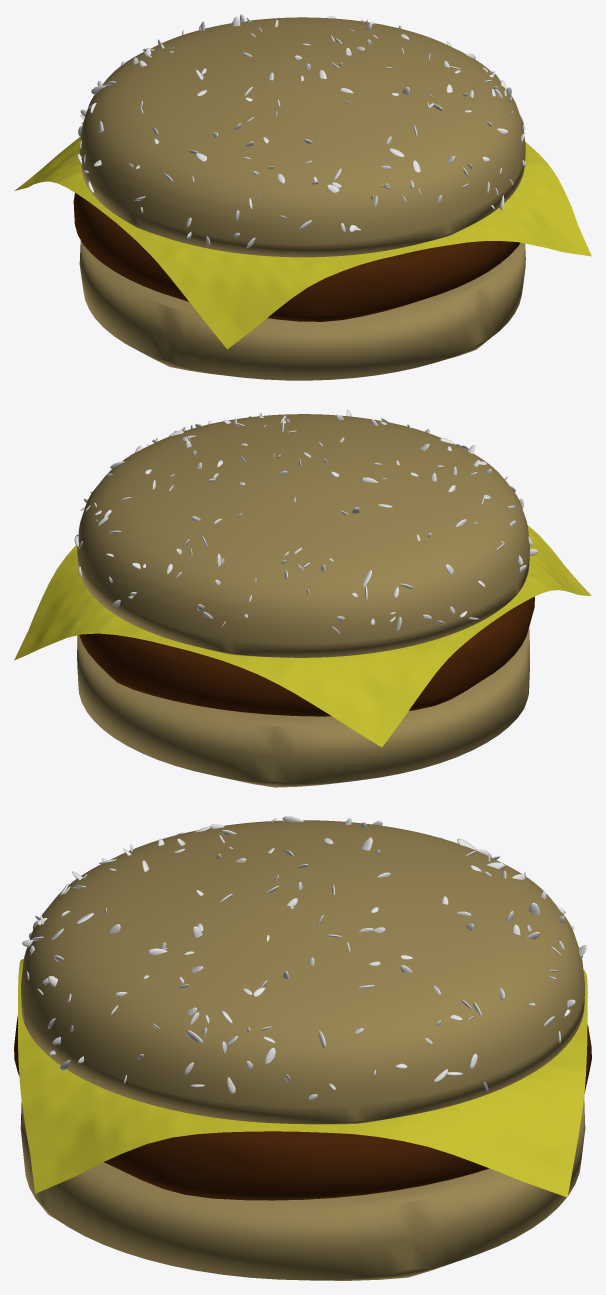
The model's file is Burger.fbx.
3 renders of one model, top to bottom at view 1: azimuth 30°, elevation 25°; view 2: azimuth 150°, elevation 25°; view 3: azimuth 270°, elevation 25°, orthographic. The views are drawn at different scales.
Visible parts, largest first — view 1: TopBun, BottomBun, Cheese, Meat, Seed.191; view 2: TopBun, BottomBun, Cheese, Meat, Seed.191; view 3: TopBun, BottomBun, Cheese, Meat, Seed.191.
Boxes of the visible parts, left/top/right/bottom form: TopBun: left=79, top=17, right=525, bottom=257; BottomBun: left=79, top=240, right=525, bottom=380; Cheese: left=14, top=137, right=591, bottom=349; Meat: left=73, top=193, right=520, bottom=321; Seed.191: left=77, top=14, right=526, bottom=247; TopBun: left=77, top=414, right=529, bottom=657; BottomBun: left=77, top=627, right=529, bottom=787; Cheese: left=14, top=525, right=591, bottom=747; Meat: left=79, top=596, right=534, bottom=716; Seed.191: left=74, top=410, right=538, bottom=634; TopBun: left=21, top=820, right=584, bottom=1124; BottomBun: left=20, top=1096, right=585, bottom=1280; Cheese: left=18, top=959, right=587, bottom=1197; Meat: left=14, top=1016, right=591, bottom=1200; Seed.191: left=22, top=816, right=586, bottom=1100.
Size of the model in its own units: 203 by 113 by 203.
